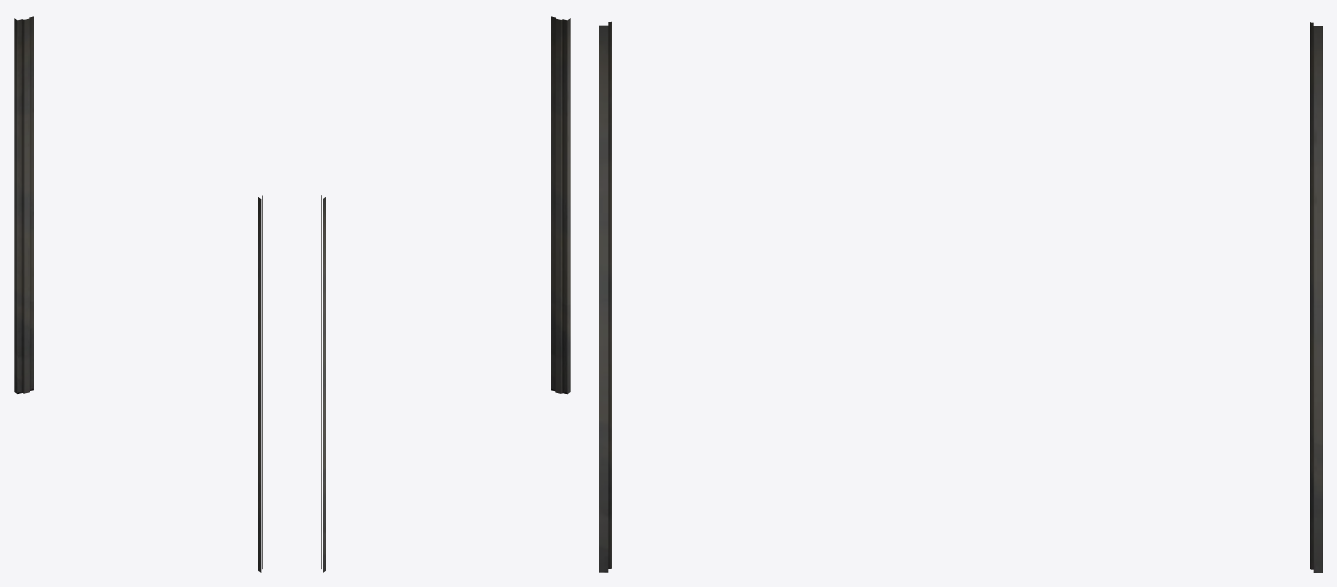
3 views of the same model, side by side, from view 1: azimuth 30°, elevation 25°; view 2: azimuth 150°, elevation 25°; view 3: azimuth 270°, elevation 25° (orthographic). The views are drawn at different scales.
Visible parts, largest first — view 1: body0_model0_lod0_mesh0; view 2: body0_model0_lod0_mesh0; view 3: body0_model0_lod0_mesh0.
Part boxes in pixels (x1,y1,x2,y2): body0_model0_lod0_mesh0: (14, 16, 262, 572); body0_model0_lod0_mesh0: (321, 16, 570, 572); body0_model0_lod0_mesh0: (599, 21, 1322, 572).
Bounding box in the file's own units: 7.55 × 160 × 192.
Materials: 1 (1 with a texture image).
